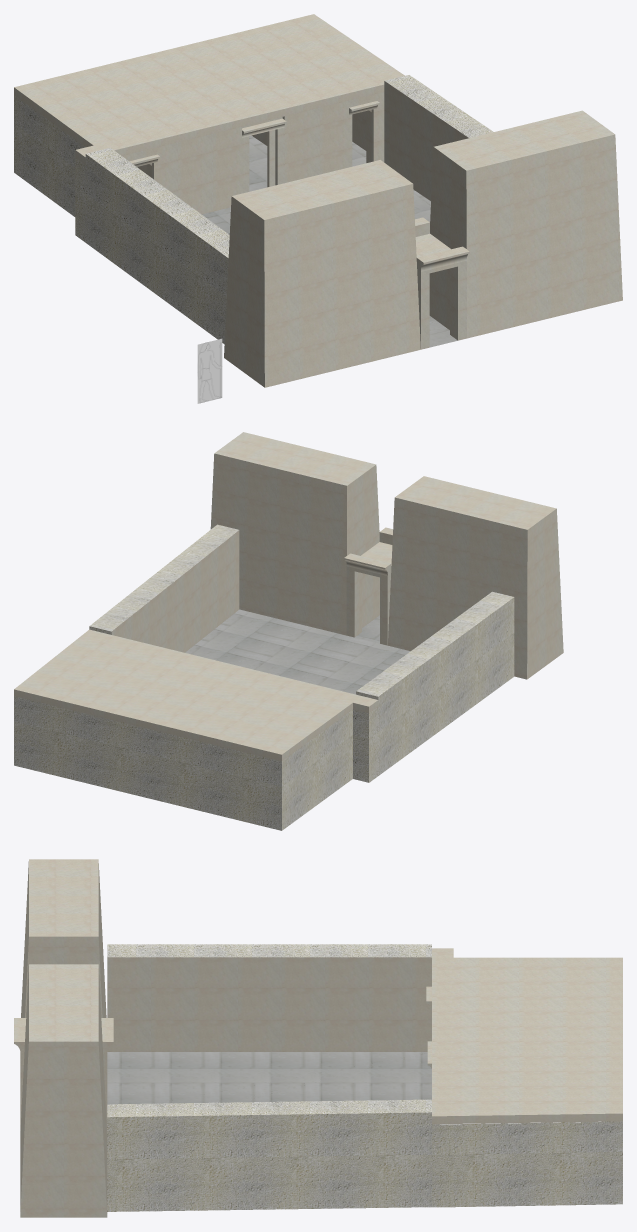
Rendered from Djehutiemheb_ST6.glb.
The picture shows the model from 3 angles, top to bottom: view 1: azimuth 30°, elevation 25°; view 2: azimuth 150°, elevation 25°; view 3: azimuth 270°, elevation 25°; orthographic projection. The views are drawn at different scales.
Visible parts, largest first — view 1: Mesh7 Model, Mesh3 Roof1 Model, Mesh1 PylonGate1 Model, Mesh2 Centre_Chapel_Gate1 Model, Mesh8 Model, Mesh4 chapels1 Model, Mesh5 chapels1 Model; view 2: Mesh7 Model, Mesh3 Roof1 Model, Mesh1 PylonGate1 Model; view 3: Mesh7 Model, Mesh3 Roof1 Model, Mesh1 PylonGate1 Model.
Part boxes in pixels (bbox=[...]): Mesh7 Model: bbox=[14, 75, 622, 387]; Mesh3 Roof1 Model: bbox=[14, 14, 404, 164]; Mesh1 PylonGate1 Model: bbox=[415, 217, 469, 349]; Mesh2 Centre_Chapel_Gate1 Model: bbox=[242, 116, 286, 193]; Mesh8 Model: bbox=[197, 338, 222, 403]; Mesh4 chapels1 Model: bbox=[349, 94, 379, 167]; Mesh5 chapels1 Model: bbox=[129, 147, 160, 181]; Mesh7 Model: bbox=[14, 432, 563, 830]; Mesh3 Roof1 Model: bbox=[14, 629, 378, 761]; Mesh1 PylonGate1 Model: bbox=[344, 527, 392, 645]; Mesh7 Model: bbox=[20, 859, 622, 1217]; Mesh3 Roof1 Model: bbox=[432, 948, 622, 1124]; Mesh1 PylonGate1 Model: bbox=[14, 1018, 113, 1132].
Size of the model in its own units: 11.98 by 4.42 by 13.98.
Materials: 5 (4 with a texture image).
